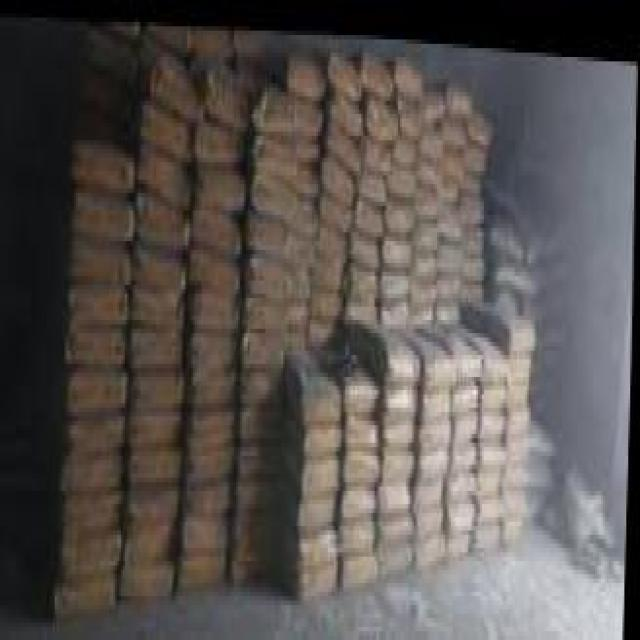gunny_bag: (286, 335, 342, 412), (354, 309, 422, 372), (471, 285, 540, 343), (284, 398, 345, 456), (403, 315, 457, 377), (141, 95, 194, 156), (138, 179, 190, 240), (139, 141, 194, 197), (283, 438, 342, 490), (155, 55, 204, 117), (66, 525, 123, 577), (434, 311, 485, 369), (75, 138, 135, 185), (132, 237, 188, 287), (75, 188, 133, 235), (72, 365, 128, 413), (194, 157, 247, 205), (69, 446, 124, 491), (133, 318, 185, 365), (69, 321, 127, 362), (69, 488, 123, 532), (72, 281, 129, 322), (75, 232, 128, 276), (207, 66, 250, 120), (131, 516, 177, 566), (133, 360, 186, 403), (192, 242, 241, 288), (70, 407, 124, 448), (135, 399, 184, 443), (134, 283, 183, 327), (247, 246, 290, 295), (194, 203, 242, 245), (191, 363, 239, 405), (135, 441, 182, 483), (137, 479, 181, 523), (193, 284, 239, 326), (196, 112, 243, 153), (250, 205, 291, 252), (191, 435, 234, 479), (186, 508, 229, 549), (190, 473, 234, 513), (190, 326, 237, 363), (241, 398, 283, 439), (238, 502, 281, 542), (256, 128, 296, 171), (327, 117, 361, 167), (331, 84, 364, 133), (323, 150, 356, 198), (302, 556, 341, 596), (247, 291, 289, 328), (191, 403, 236, 437), (301, 517, 338, 558), (347, 440, 381, 484), (344, 369, 383, 407), (289, 48, 325, 89), (245, 328, 286, 364), (244, 365, 286, 400), (185, 545, 228, 579), (241, 437, 281, 473), (363, 42, 392, 91), (383, 525, 416, 568), (329, 48, 362, 90), (256, 86, 297, 119), (287, 181, 317, 226), (366, 89, 397, 132), (346, 540, 381, 578), (345, 409, 381, 445), (419, 433, 452, 472), (322, 185, 353, 226), (254, 167, 285, 208), (395, 46, 423, 90), (347, 254, 379, 292), (362, 127, 392, 167), (345, 476, 379, 511), (379, 498, 416, 530), (387, 375, 418, 413), (345, 504, 378, 539), (383, 437, 418, 470), (446, 66, 473, 108), (384, 225, 412, 265), (318, 216, 348, 252), (424, 375, 453, 412), (416, 524, 449, 556), (421, 408, 453, 441), (352, 223, 378, 263), (386, 405, 415, 440), (354, 192, 383, 227), (387, 189, 414, 226), (388, 157, 418, 190), (440, 191, 463, 231), (358, 162, 385, 196), (414, 209, 441, 243), (450, 489, 478, 521), (312, 283, 345, 310), (415, 174, 439, 211), (455, 398, 480, 433), (479, 451, 504, 485), (381, 471, 411, 499), (462, 212, 486, 247), (466, 127, 488, 165), (454, 371, 482, 400), (449, 462, 479, 489), (505, 445, 529, 478), (396, 121, 418, 157), (416, 497, 445, 524), (483, 370, 509, 400), (479, 483, 504, 514), (507, 474, 530, 507), (413, 243, 439, 272), (454, 435, 480, 463), (385, 263, 411, 291), (485, 345, 510, 374), (510, 366, 532, 398), (481, 402, 506, 430), (463, 182, 484, 215), (464, 243, 486, 274), (419, 122, 443, 149), (441, 262, 461, 294), (509, 419, 530, 447)
